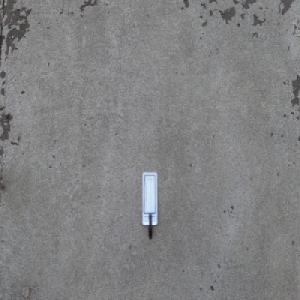LuggageTag: (141, 170, 158, 240)
